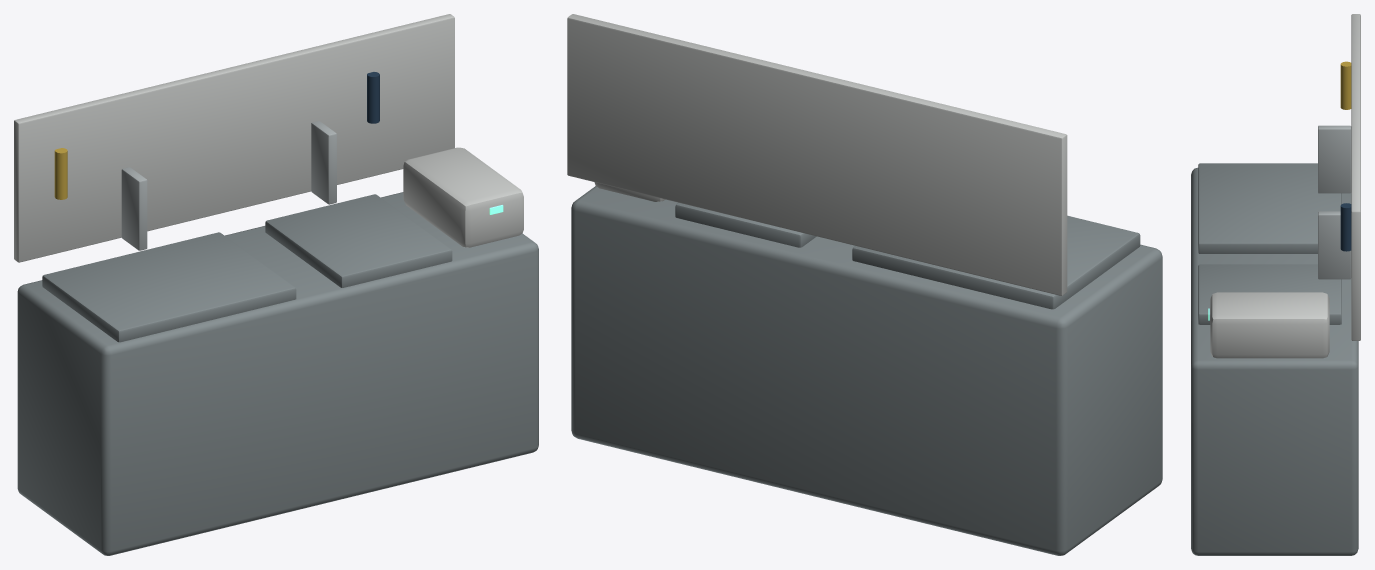
Rendered from sc-decon-sink.glb.
The picture shows the model from 3 angles, left to right: view 1: azimuth 30°, elevation 25°; view 2: azimuth 150°, elevation 25°; view 3: azimuth 270°, elevation 25°; orthographic projection. The views are drawn at different scales.
Parts seen in each view (by area): view 1: sc-decon-sink; view 2: sc-decon-sink; view 3: sc-decon-sink.
Part boxes in pixels (bbox=[...]): sc-decon-sink: bbox=[14, 14, 538, 555]; sc-decon-sink: bbox=[567, 14, 1162, 555]; sc-decon-sink: bbox=[1191, 14, 1360, 555].
Size of the model in its own units: 1.96 by 1.6 by 0.71.
